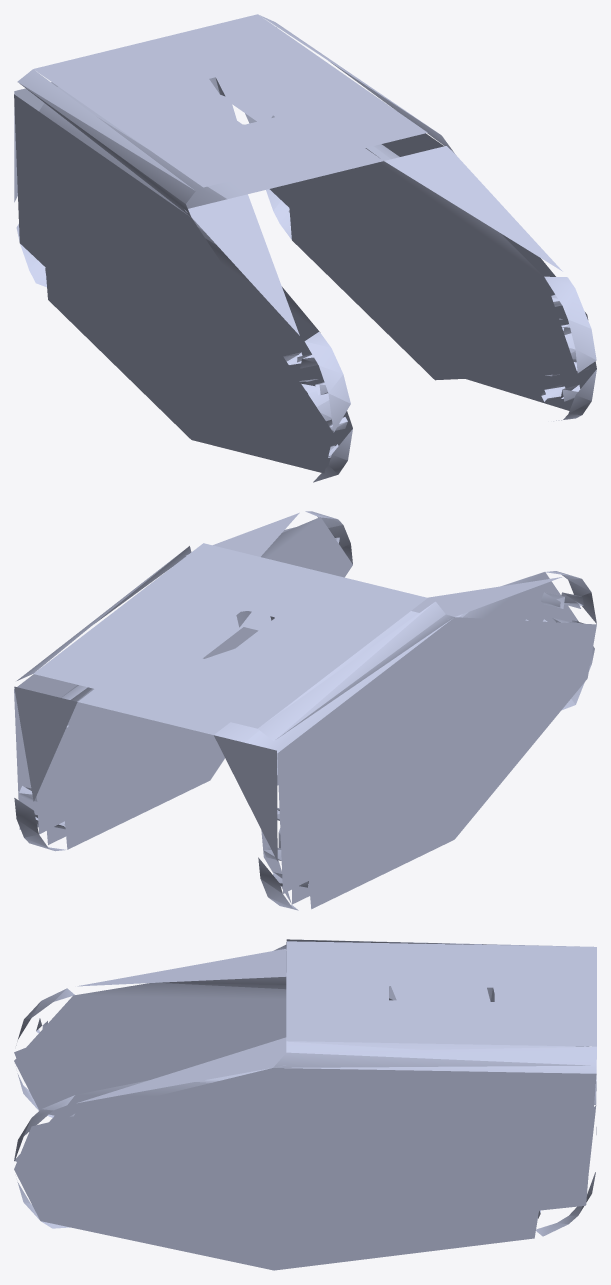
The model's file is part_23_opt.obj.
3 views of the same model, one above another, from view 1: azimuth 30°, elevation 25°; view 2: azimuth 150°, elevation 25°; view 3: azimuth 270°, elevation 25° (orthographic). The views are drawn at different scales.
Visible parts, largest first — view 1: NONE_DC_Shell; view 2: NONE_DC_Shell; view 3: NONE_DC_Shell.
Part boxes in pixels (x1,y1,x2,y2): NONE_DC_Shell: (14, 14, 596, 482); NONE_DC_Shell: (14, 511, 596, 910); NONE_DC_Shell: (14, 939, 596, 1270).
Size of the model in its own units: 47.6 by 41.88 by 100.
